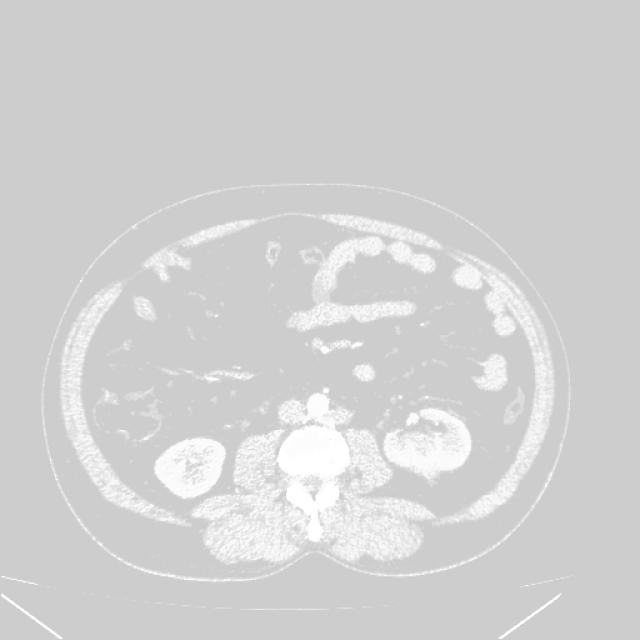TUMOR: (109, 265, 558, 489)
